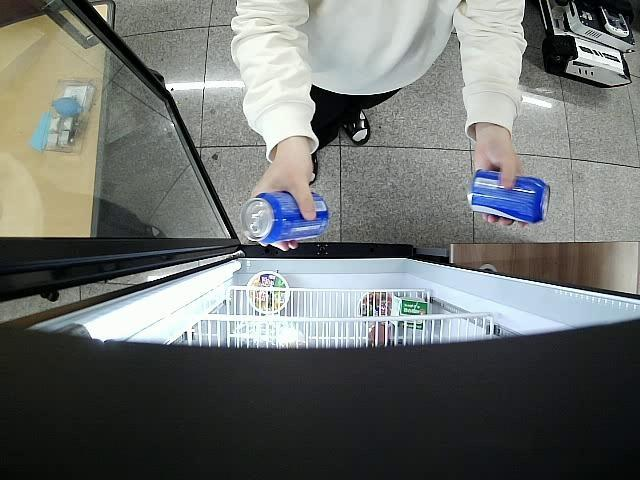13_pocariSweat: (240, 192, 330, 246), (468, 168, 551, 224)
